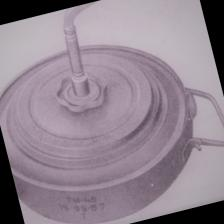TM-46: (0, 5, 223, 224)
